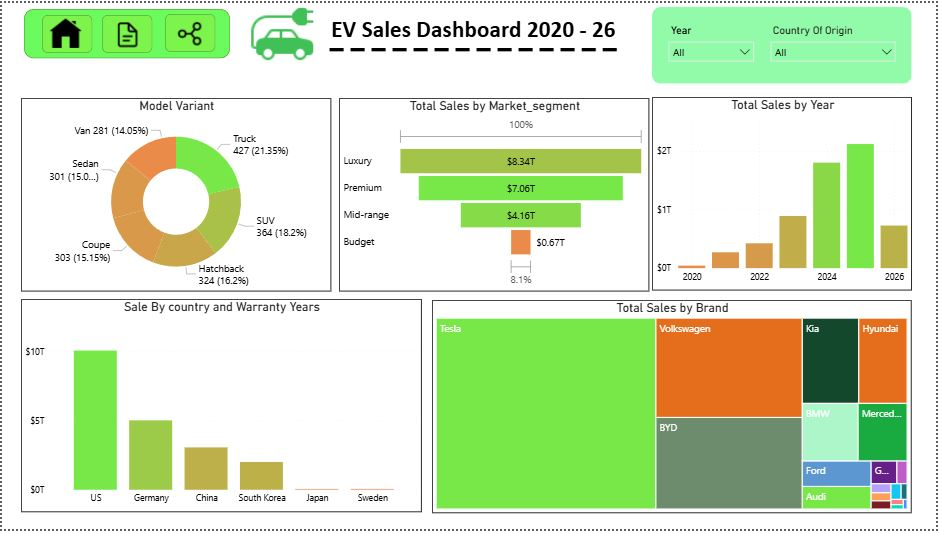

The page's visual inventory and layout, read from the dashboard file:
{"tool":"powerbi","page":{"name":"Market Analysis","canvas":[1280,720],"ordinal":2},"visuals":[{"type":"group","id":"g1","title":"Group 1","box":[436.5,0,427,114.3],"z":0},{"type":"textbox","box":[436.5,10.9,417.6,64.8],"z":0,"group":"g1"},{"type":"image","box":[301,0,164.2,85],"z":1000},{"type":"shape","box":[30.2,8.6,282.2,67.7],"z":2000},{"type":"shape","box":[136.7,16.4,69.1,51.8],"z":3000},{"type":"shape","box":[54.6,16.4,69.1,51.8],"z":4000},{"type":"textbox","box":[437.2,0,427.7,113.8],"z":5000,"group":"g1"},{"type":"actionButton","box":[60.3,16.4,53.3,51.8],"z":5000},{"type":"actionButton","box":[148.3,23,47.5,40.3],"z":6000},{"type":"shape","box":[223.2,14.4,69.1,51.8],"z":7000},{"type":"actionButton","box":[233.3,21.6,47.5,40.3],"z":8000},{"type":"columnChart","title":"Sale By country and Warranty Years","fields":{"Y":["Sum(ev_market_2026 dashboard.sale_by_year)"],"Category":["ev_market_2026 dashboard.country_of_origin"]},"box":[25.9,406.1,548.6,292.3],"z":9000},{"type":"donutChart","title":"Model Variant","fields":{"Y":["CountNonNull(ev_market_2026 dashboard.model)"],"Category":["ev_market_2026 dashboard.body_type"]},"box":[25.9,129.6,424.8,265],"z":10000},{"type":"funnel","title":"Total Sales by Market_segment","fields":{"Category":["ev_market_2026 dashboard.market_segment"],"Y":["All Measures.Total_sales"]},"box":[461,130,425,265],"z":10001},{"type":"treemap","title":"Total Sales by Brand","fields":{"Values":["All Measures.Total_sales"],"Details":["ev_market_2026 dashboard.brand"]},"box":[589.6,406.5,656.8,292.3],"z":10002},{"type":"columnChart","title":"Total Sales by Year","fields":{"Category":["ev_market_2026 dashboard.year"],"Y":["All Measures.Total_sales"]},"box":[890.3,129.3,356.1,265.4],"z":10003},{"type":"shape","box":[889.9,5.8,355.7,105.1],"z":10004},{"type":"slicer","fields":{"Values":["ev_market_2026 dashboard.year"]},"box":[908.6,30.2,126.7,53.3],"z":10005},{"type":"slicer","fields":{"Values":["ev_market_2026 dashboard.country_of_origin"]},"box":[1048.3,30.2,181.4,64.8],"z":10007}]}

Visuals, with their boxes in screenshot pixels (x1, y1, x2, y2), scaled from the page's 1280x720 canvas onto the 939x533 screenshot:
"Group 1" group: select_region(320, 0, 633, 85)
textbox: select_region(320, 8, 627, 56)
image: select_region(221, 0, 341, 63)
shape: select_region(22, 6, 229, 56)
shape: select_region(100, 12, 151, 50)
shape: select_region(40, 12, 91, 50)
textbox: select_region(321, 0, 634, 84)
actionButton: select_region(44, 12, 83, 50)
actionButton: select_region(109, 17, 144, 47)
shape: select_region(164, 11, 214, 49)
actionButton: select_region(171, 16, 206, 46)
"Sale By country and Warranty Years" columnChart: select_region(19, 301, 421, 517)
"Model Variant" donutChart: select_region(19, 96, 331, 292)
"Total Sales by Market_segment" funnel: select_region(338, 96, 650, 292)
"Total Sales by Brand" treemap: select_region(433, 301, 914, 517)
"Total Sales by Year" columnChart: select_region(653, 96, 914, 292)
shape: select_region(653, 4, 914, 82)
slicer - ev_market_2026 dashboard.year: select_region(667, 22, 759, 62)
slicer - ev_market_2026 dashboard.country_of_origin: select_region(769, 22, 902, 70)
